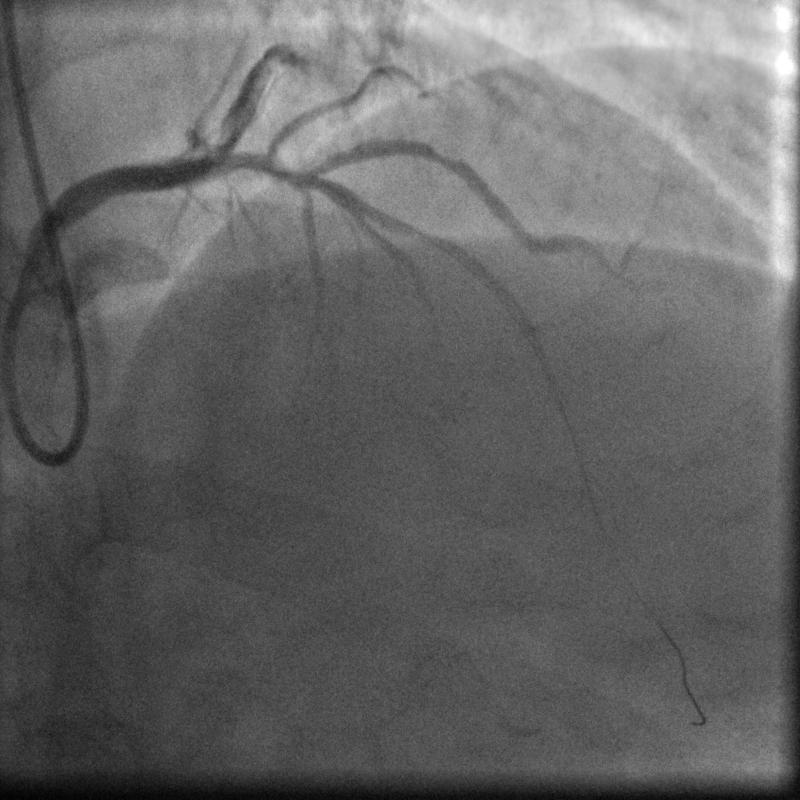Stenosis: (422, 136, 468, 177)
